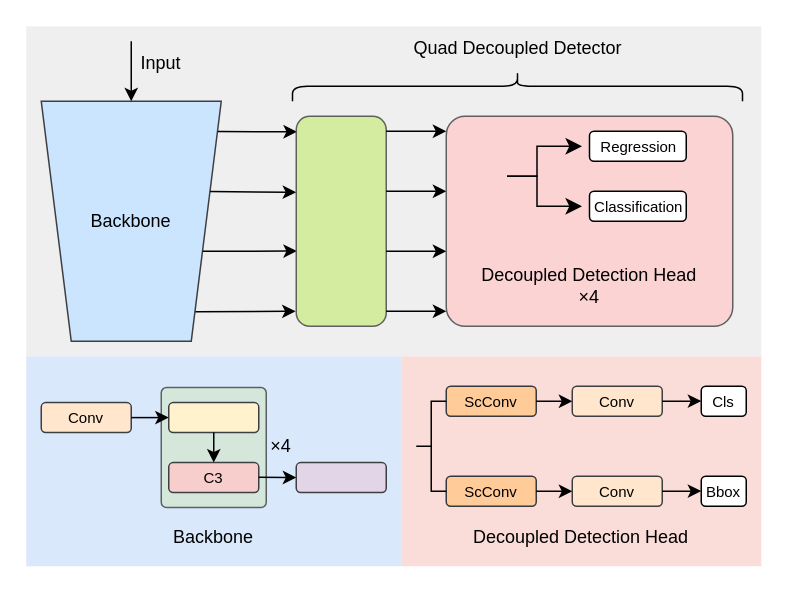
The diagram is 786 pixels wide and 591 high, and some of its shapes have lost their labels. Here are the shapes that lost their labels. From the top down, the centre of each, then its label:
At [340,220]: "Quad FPN-PAN Neck".
At [213,417]: "GruopFocus".
At [340,477]: "SPPF".
